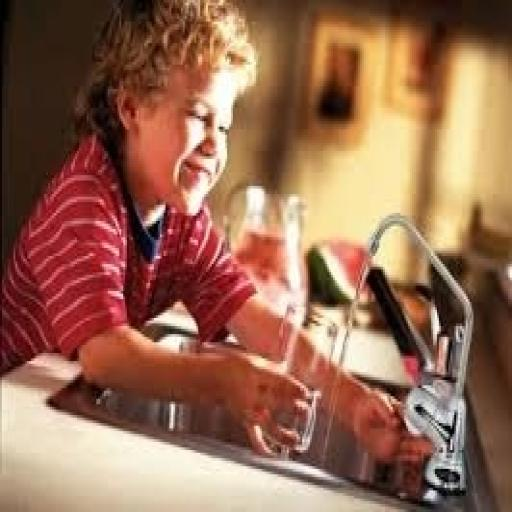drinking: (49, 0, 449, 470)
